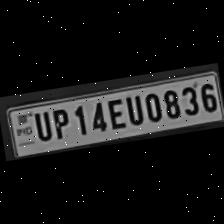0: (140, 89, 164, 124)
1: (68, 103, 90, 139)
3: (178, 82, 200, 118)
4: (85, 98, 108, 135)
6: (195, 79, 219, 115)
8: (159, 86, 182, 120)
E: (104, 95, 128, 132)
P: (48, 104, 74, 140)
U: (29, 107, 53, 143), (122, 92, 146, 126)
